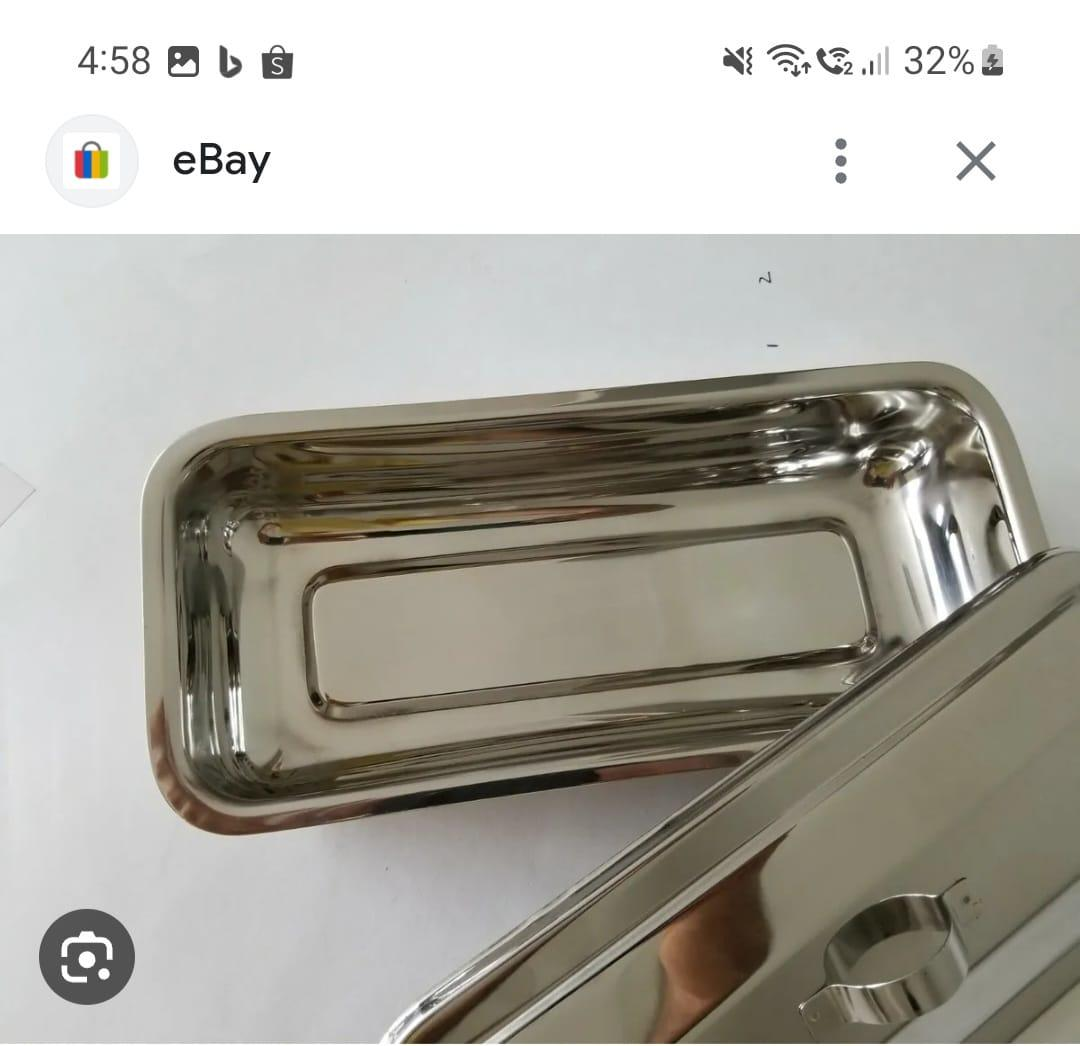Catheter Tray: (133, 355, 1053, 830)
